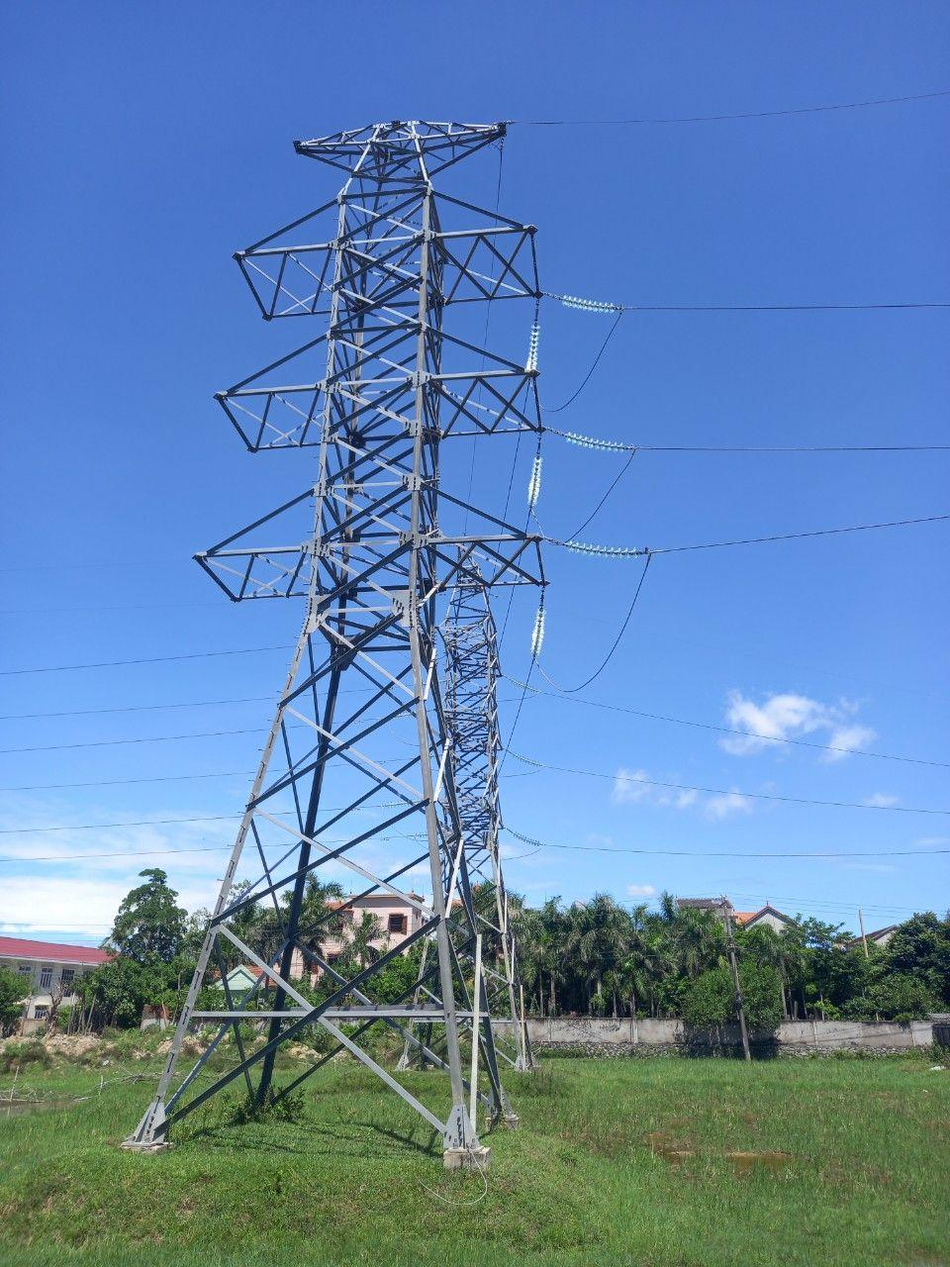tower: (63, 34, 571, 1187)
